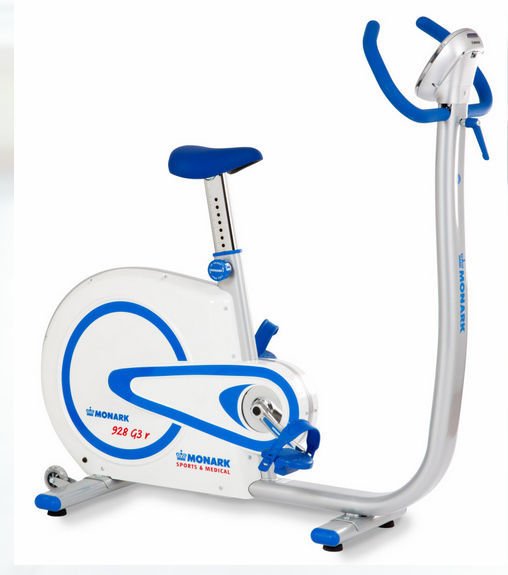gym_bike: (33, 21, 490, 556)
